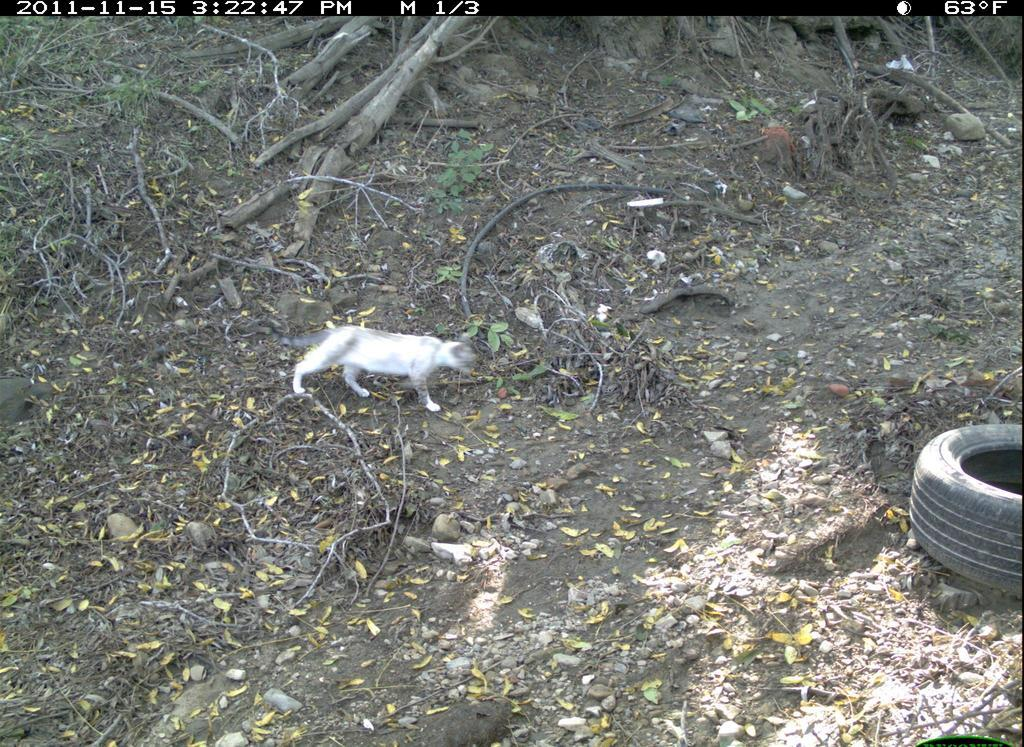cat: (251, 314, 483, 419)
